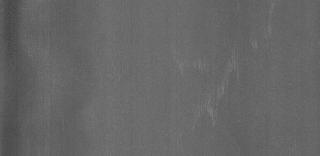silk spot: (162, 23, 280, 128)
